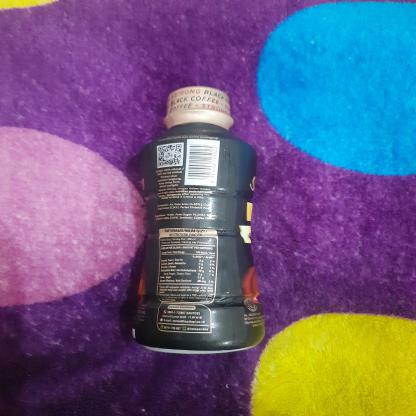bottle: (116, 83, 272, 358)
